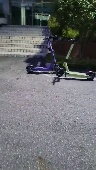beam: (24, 37, 65, 73)
gcooter: (55, 37, 96, 80)
